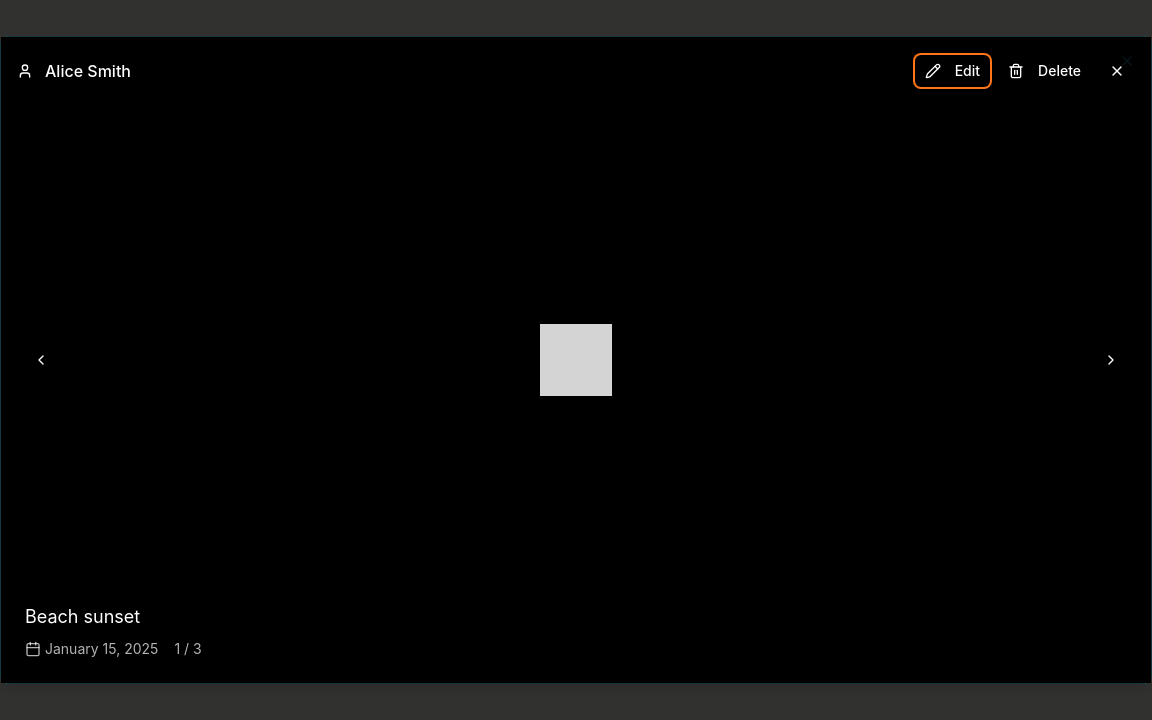
it: PhotoLightbox › Navigation › should navigate to next photo on arrow click
The image size is (1152, 720).
Click the button named "Next photo".
click(1111, 360)  # box [1087,336,1135,384]
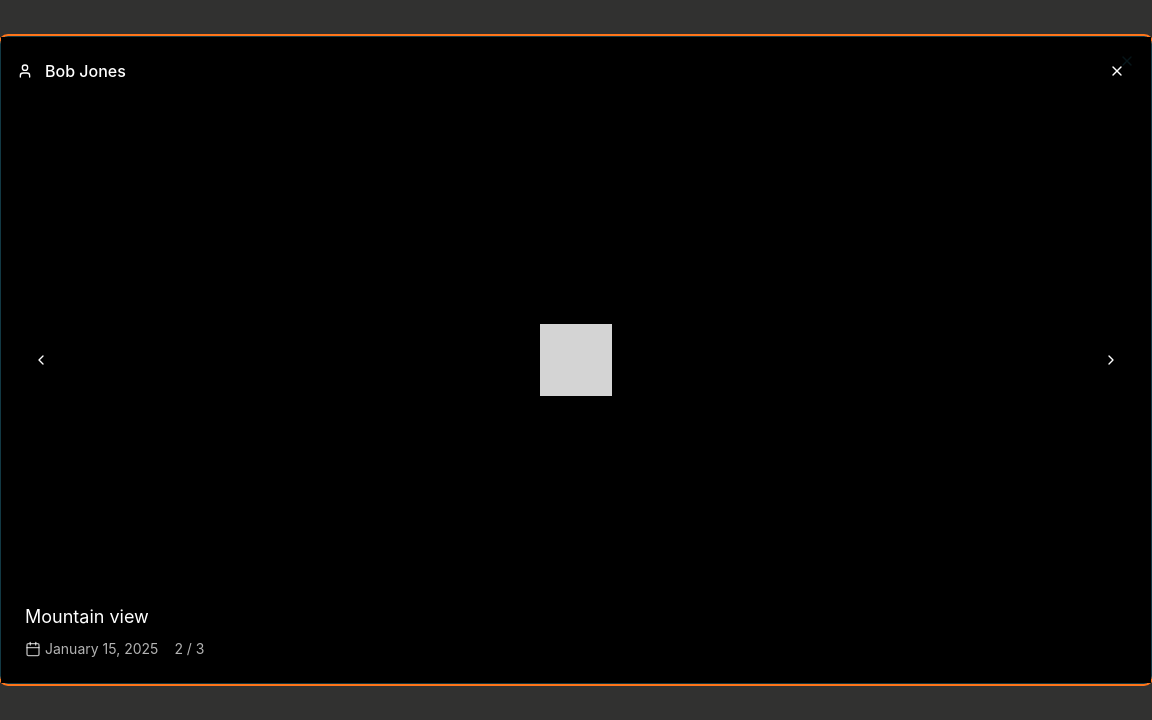
Expected: the text "Mountain view" is shown, [25,606,149,627]
Expected: the text "2 / 3" is shown, [174,639,204,659]
